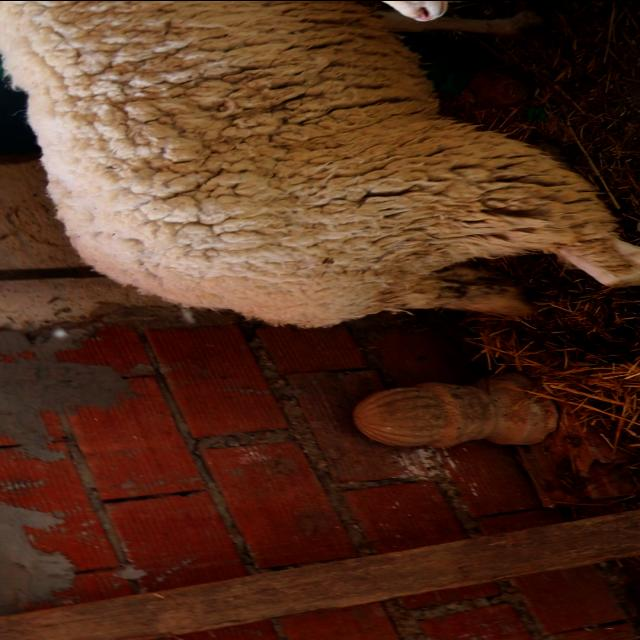Score_3: (0, 0, 639, 327)
